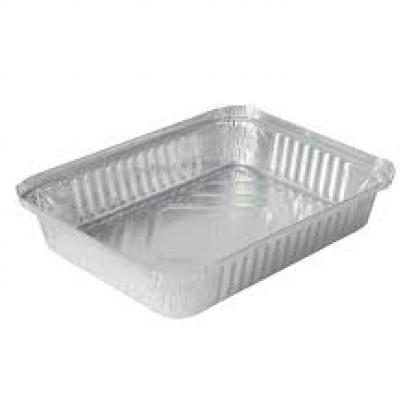METAL: (15, 102, 394, 316)
